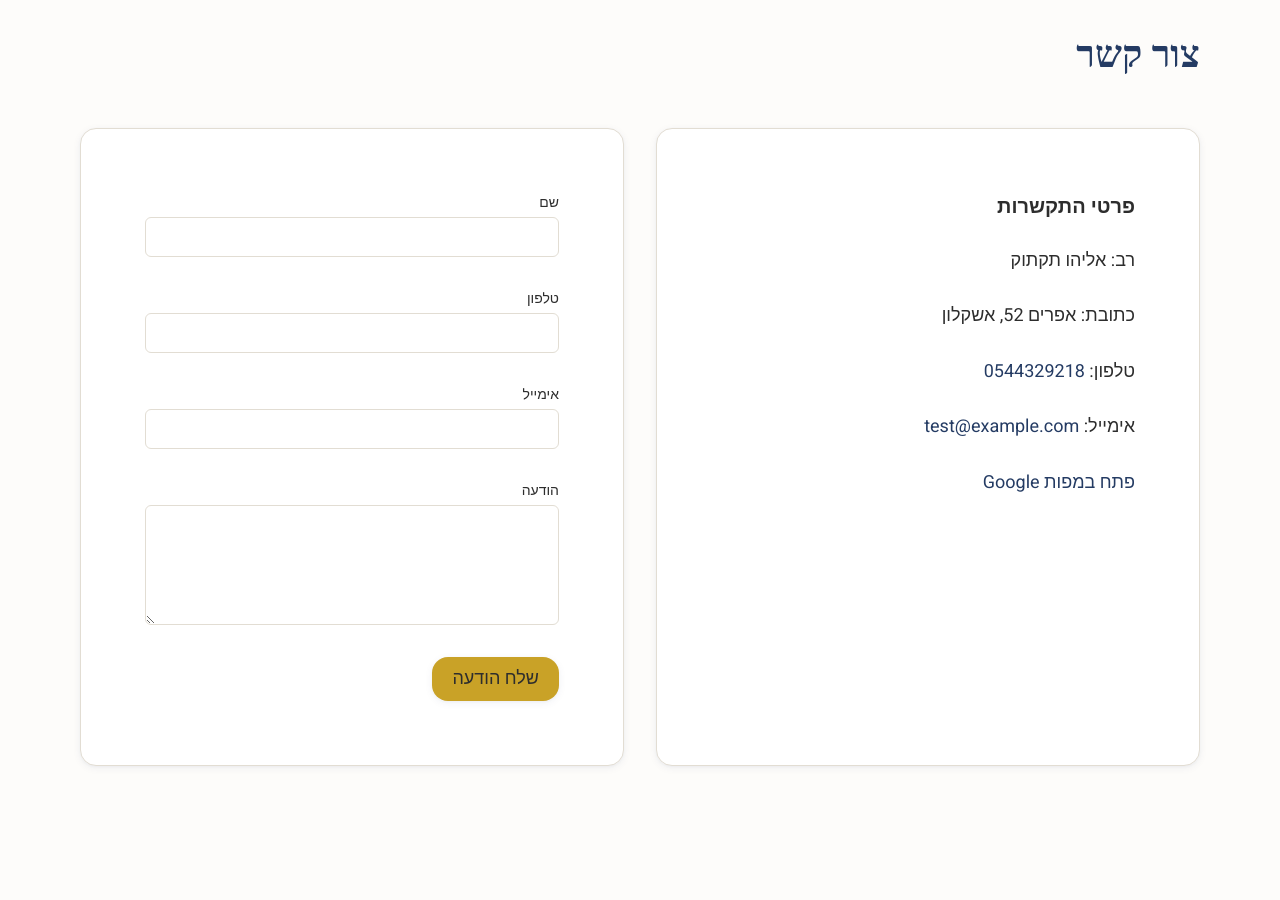
ContactPage › shows validation errors for empty submit
Click the button "שלח הודעה": click(496, 678) [432,656,559,700]
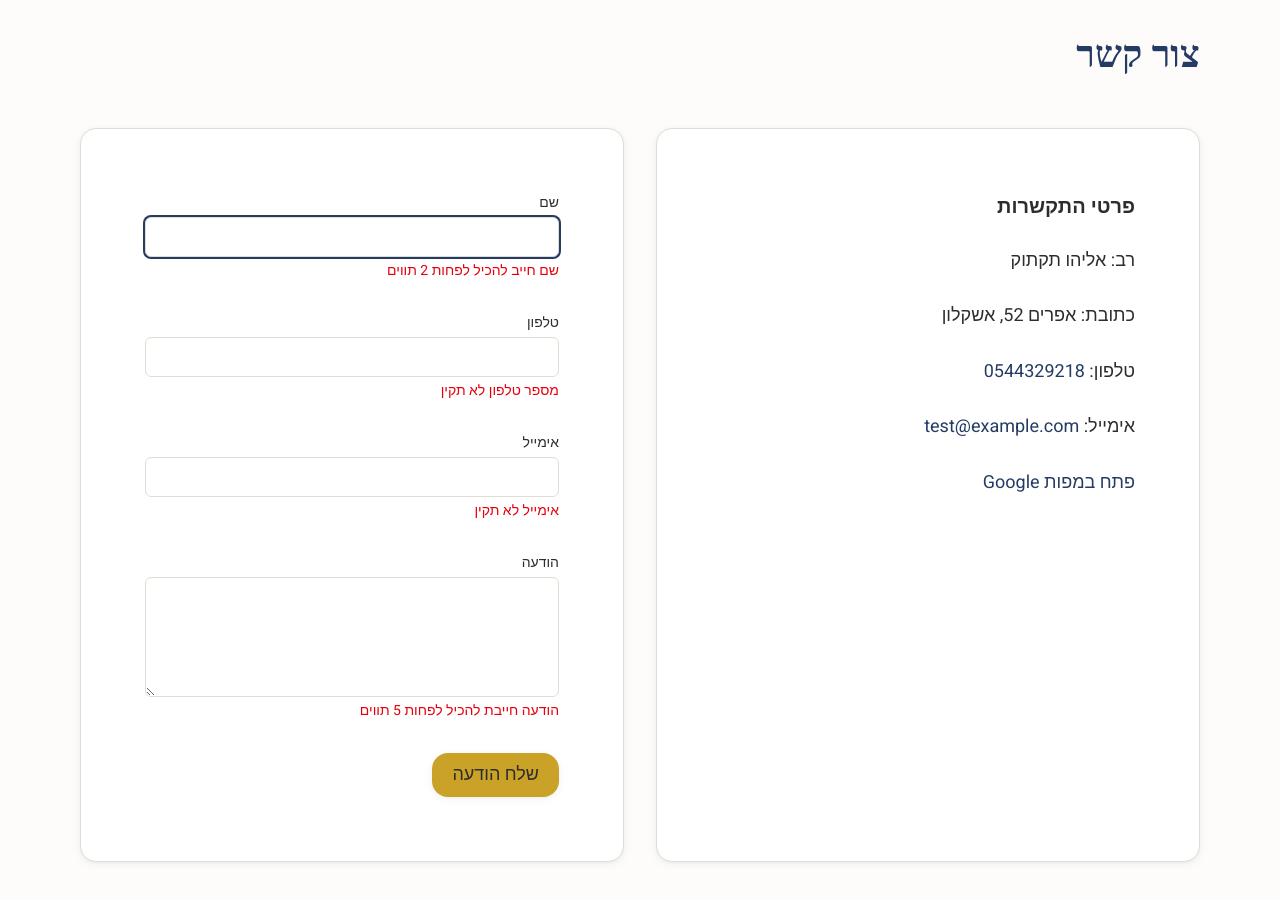
expect the text "שם חייב להכיל לפחות 2 תווים" is shown: met, box [387,260,559,280]
